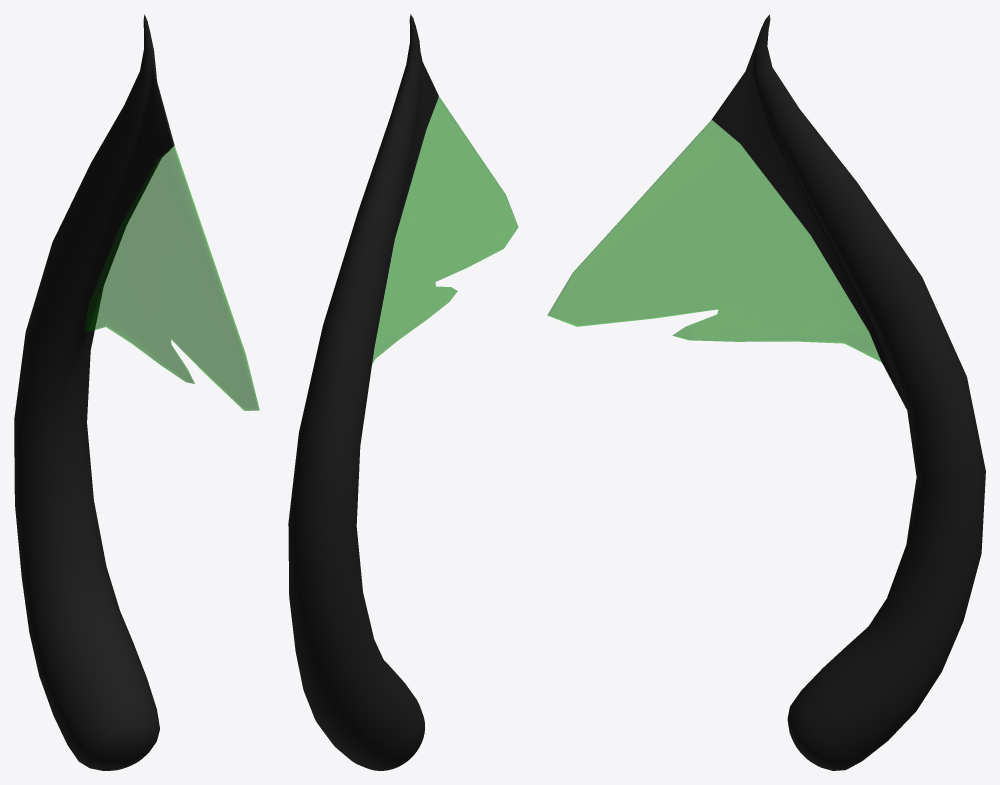
The model's file is zpunkac_rameno.fbx.
3 views of the same model, side by side, from view 1: azimuth 30°, elevation 25°; view 2: azimuth 150°, elevation 25°; view 3: azimuth 270°, elevation 25° (orthographic). The views are drawn at different scales.
Visible parts, largest first — view 1: Cylinder.002; view 2: Cylinder.002; view 3: Cylinder.002.
Part boxes in pixels (x1,y1,x2,y2): Cylinder.002: [14, 14, 259, 770]; Cylinder.002: [288, 14, 518, 770]; Cylinder.002: [547, 14, 985, 770].
Size of the model in its own units: 0.0477 by 0.4061 by 0.2147.
